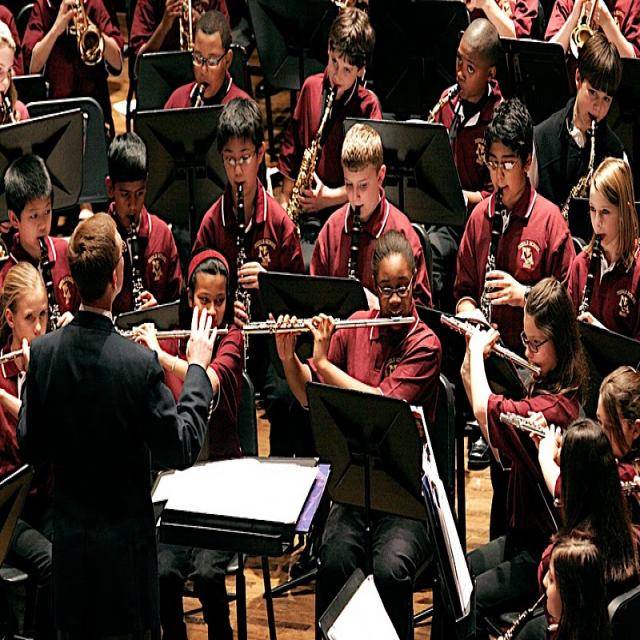clarinet: (230, 178, 254, 376), (475, 184, 508, 322), (37, 232, 64, 336), (573, 233, 605, 320), (501, 592, 548, 639), (127, 214, 147, 310), (344, 202, 364, 284)
